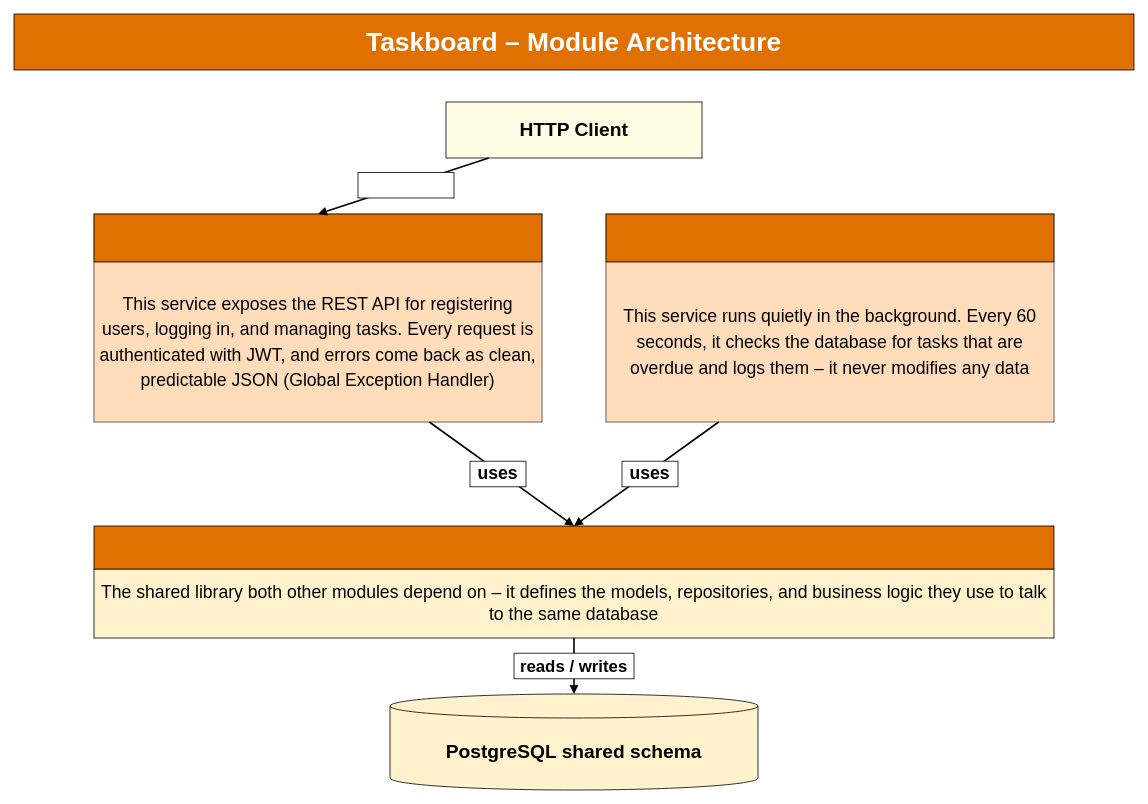
Image size: 1148x804. Some labels were removed from this diagram. Here are the shapes that lost their labels. From the top down, the box of each, then its label:
(357, 172, 454, 198): REST calls
(93, 213, 542, 262): taskboard-api · :8080
(605, 213, 1054, 262): taskboard-worker · no port
(93, 525, 1054, 569): taskboard-core
